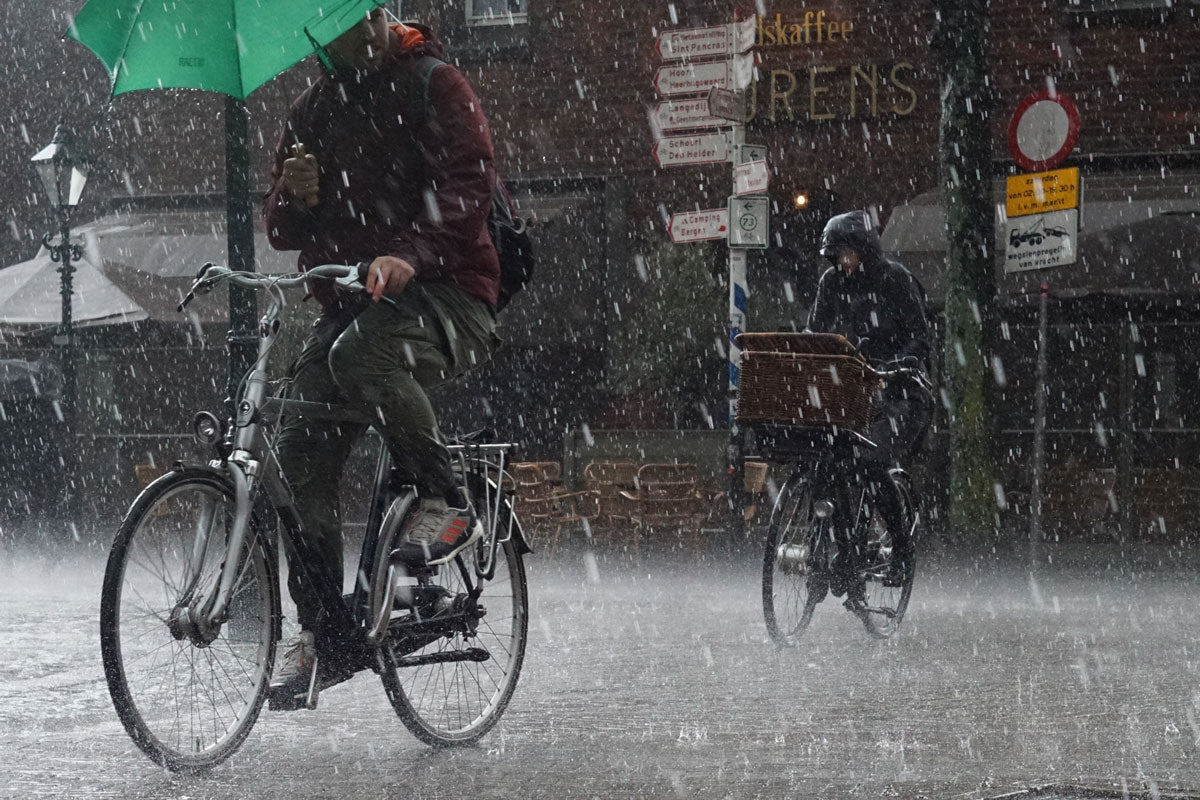person: (269, 4, 497, 447)
